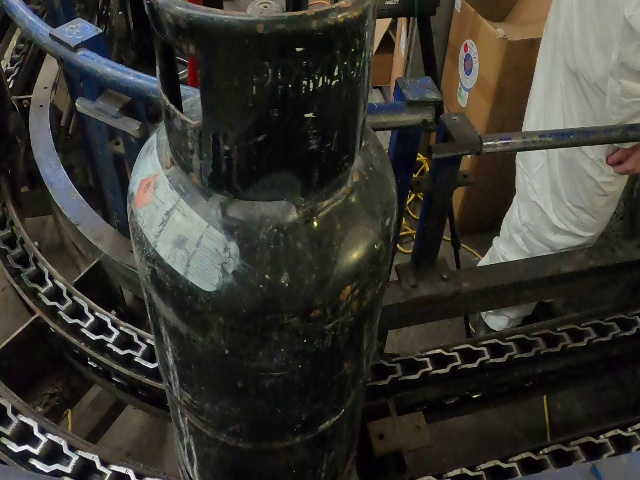gas_bottle: (4, 7, 640, 478)
